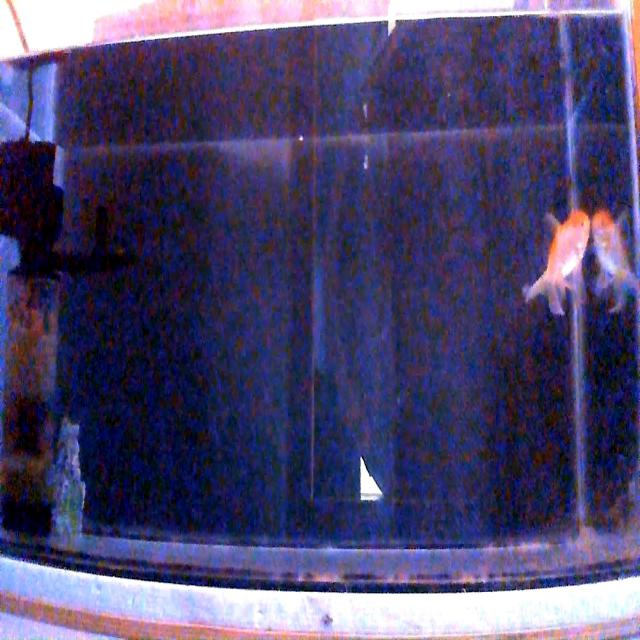fish: (523, 206, 591, 316), (590, 209, 640, 314)
